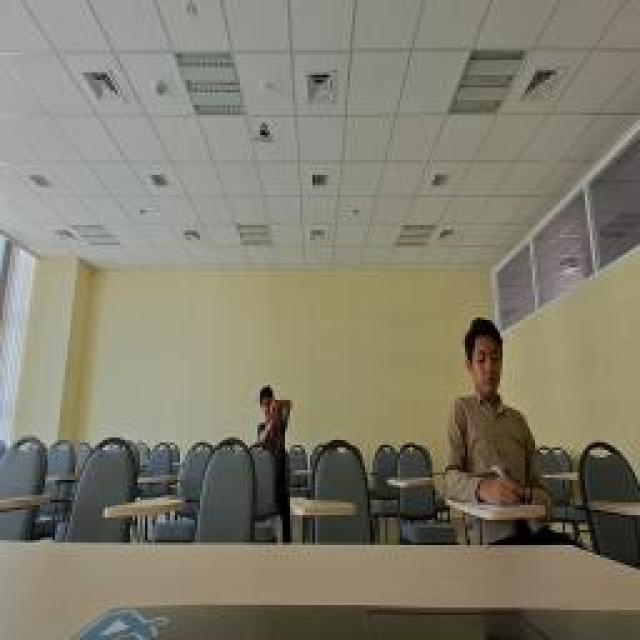study: (445, 318, 553, 508)
